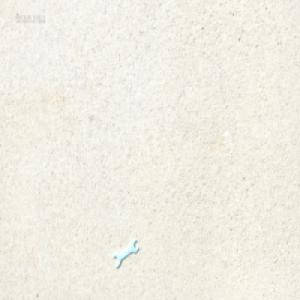Wrench: (114, 240, 138, 268)
